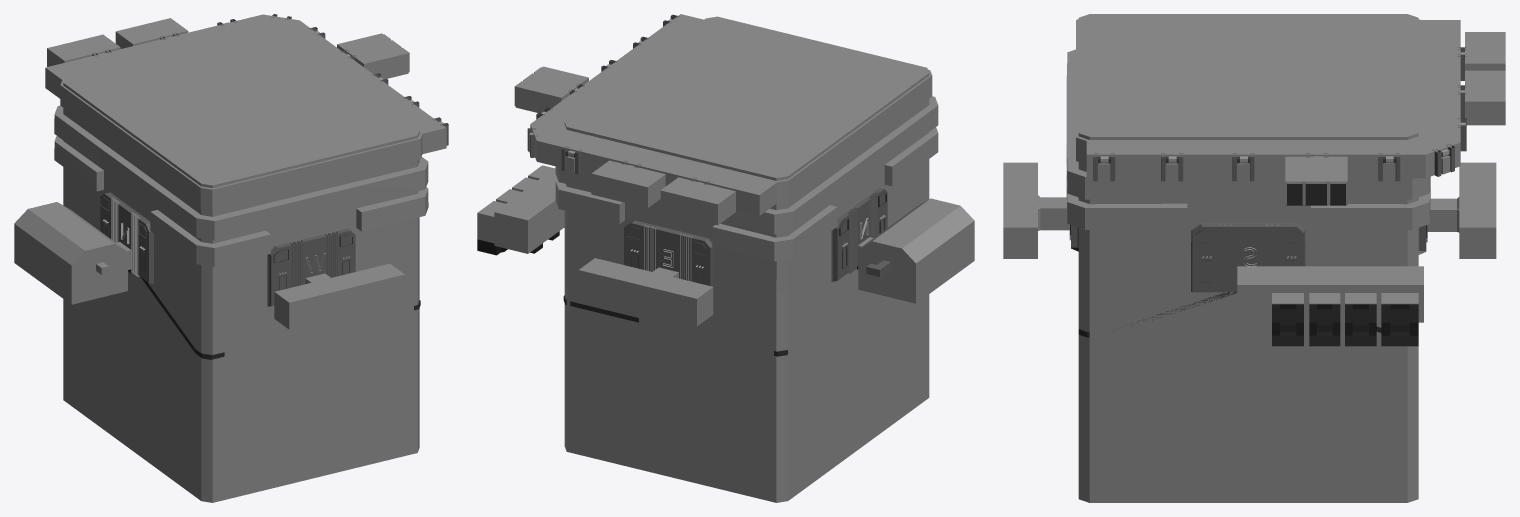
The model's file is office_2.FBX.
3 views of the same model, side by side, from view 1: azimuth 30°, elevation 25°; view 2: azimuth 150°, elevation 25°; view 3: azimuth 270°, elevation 25° (orthographic). The views are drawn at different scales.
Parts seen in each view (by area): view 1: office_2, office_2_center_ground; view 2: office_2; view 3: office_2, ground_1, ground_2.
Part boxes in pixels (x1,y1,x2,y2): office_2: (14,14,446,502); office_2_center_ground: (128,269,420,359); office_2: (477,14,974,502); office_2: (1003,14,1505,502); ground_1: (1071,247,1426,346); ground_2: (1286,183,1346,205).
Size of the model in its own units: 3431 by 2696 by 3351.
